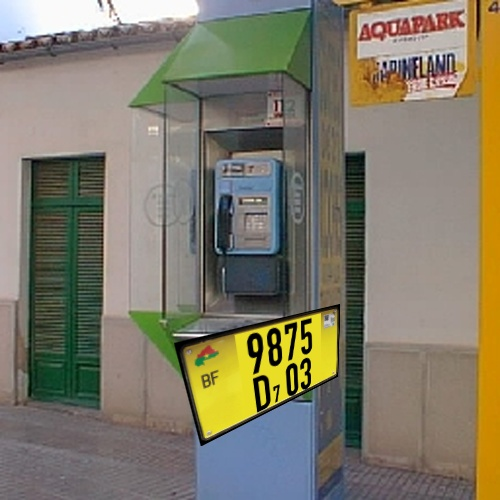plate: (156, 294, 347, 464)
